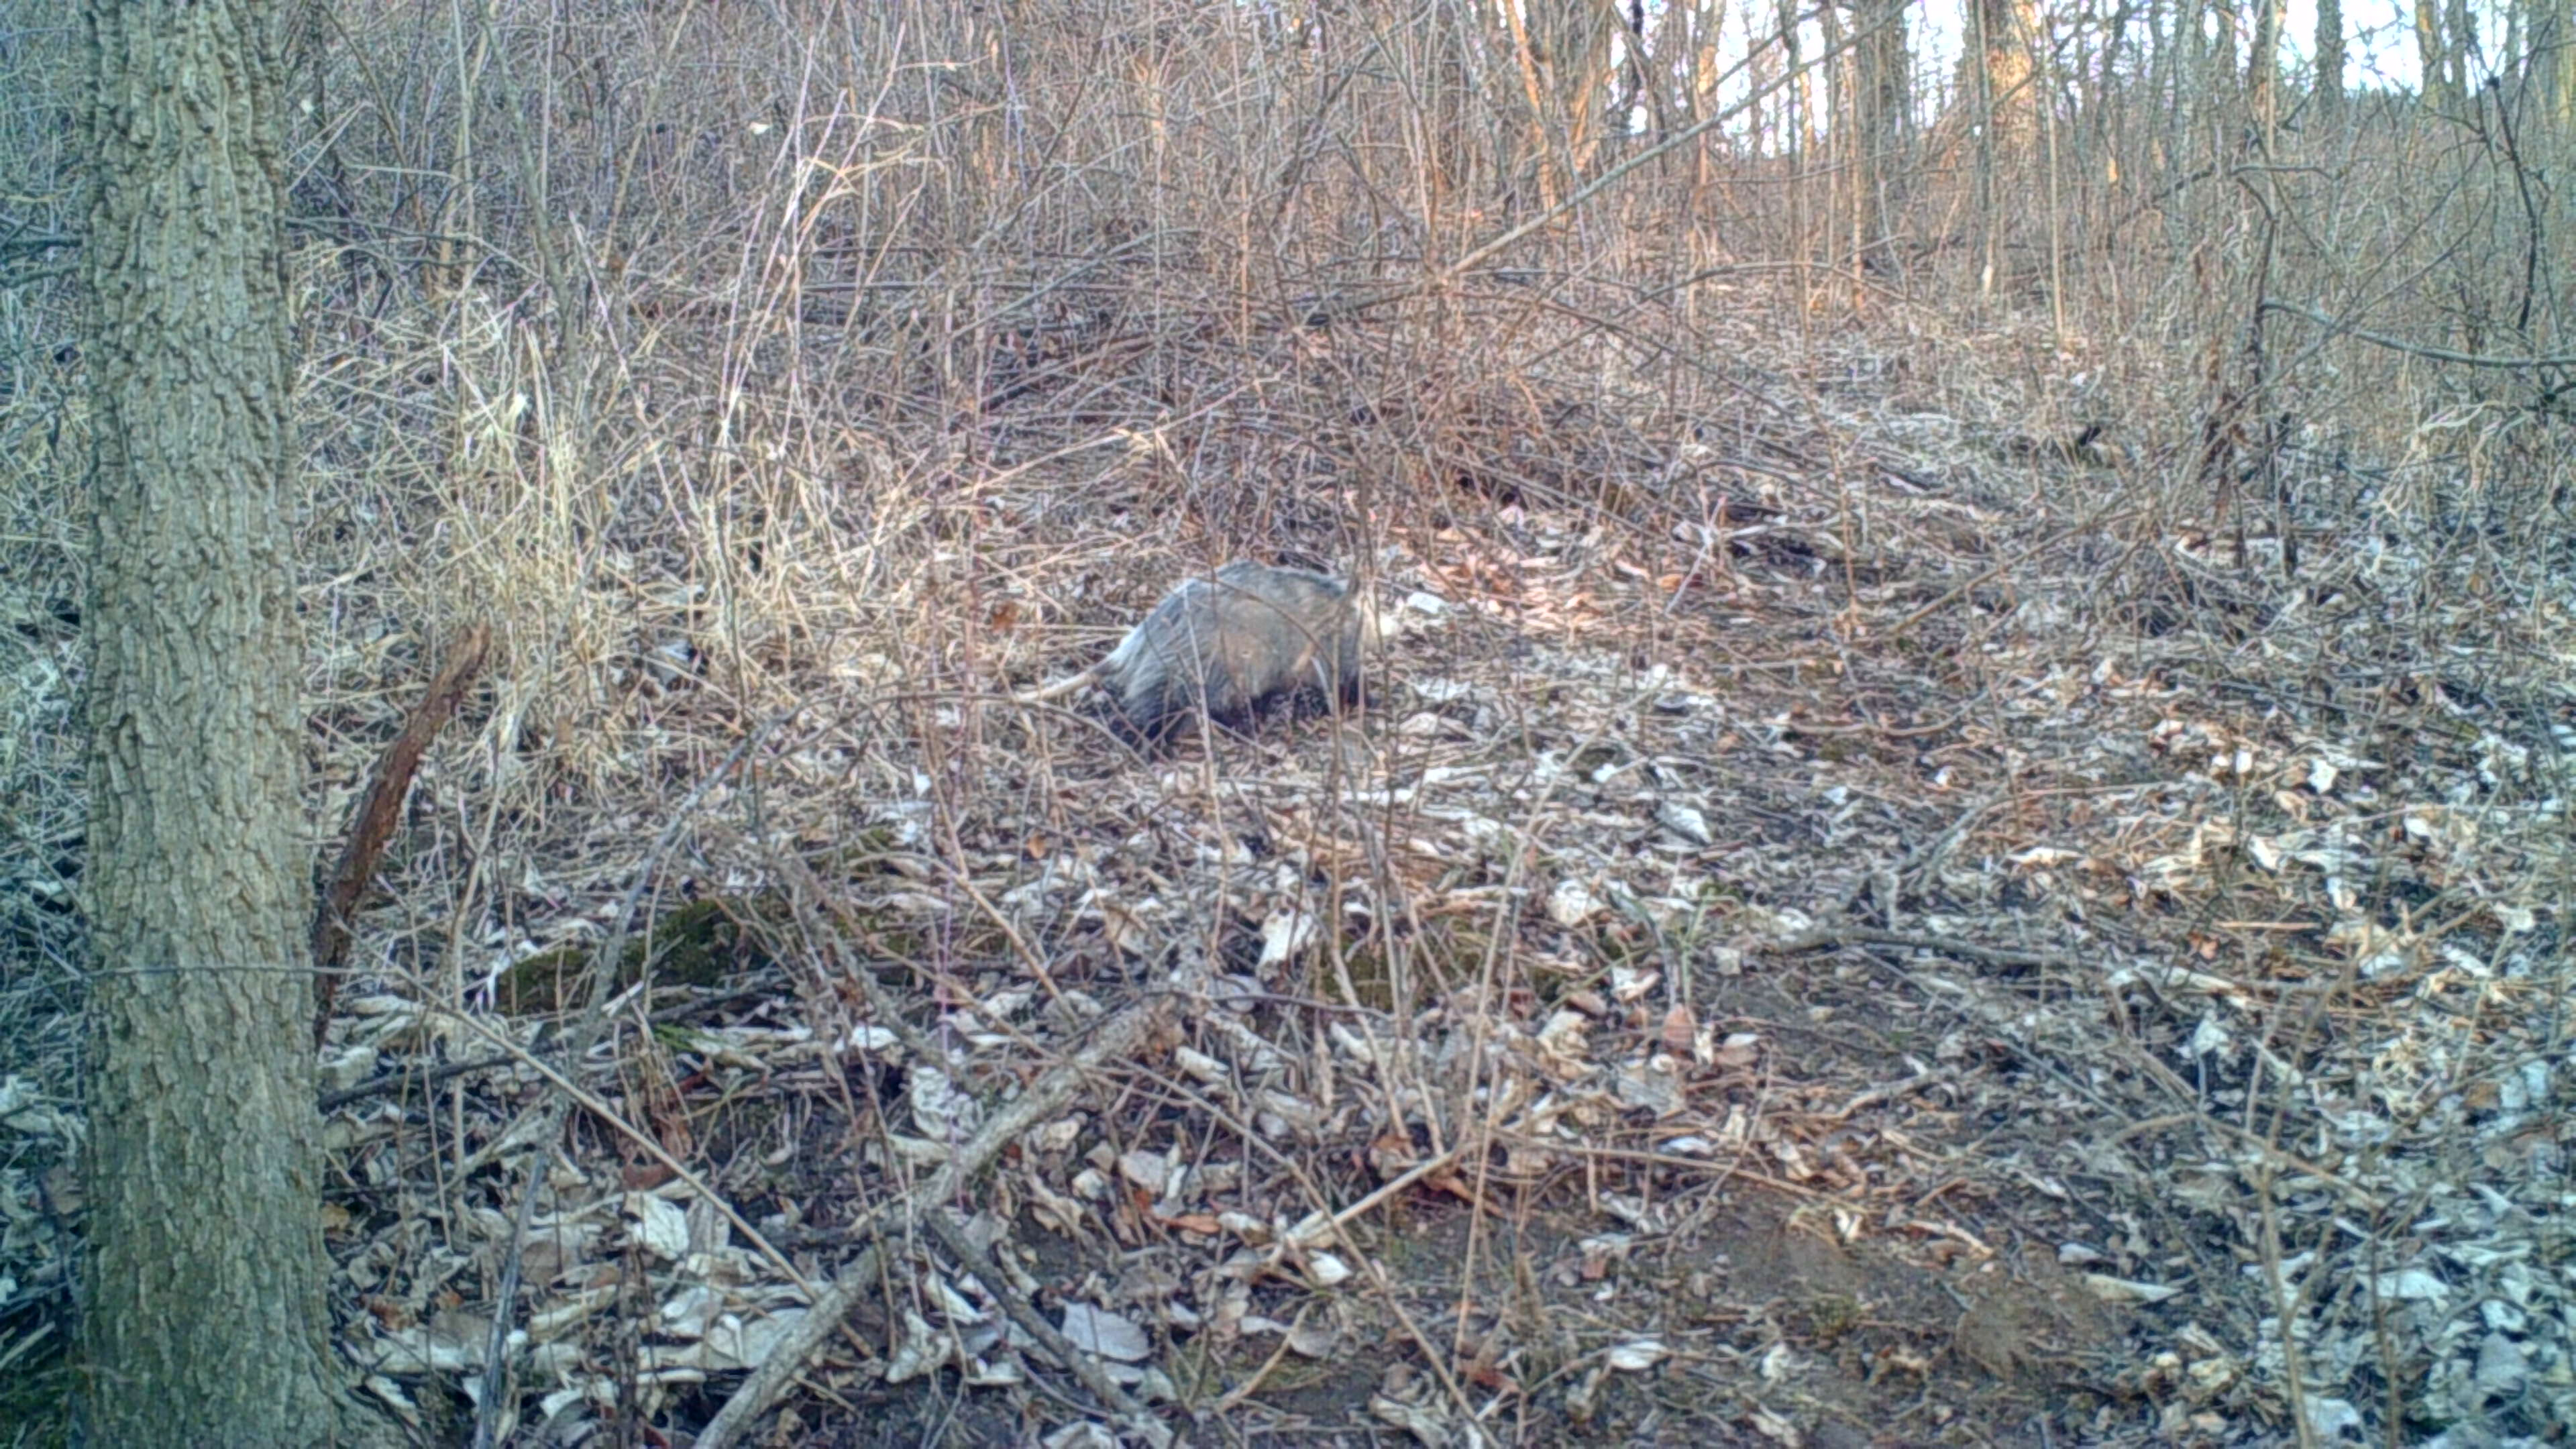Possum: (1000, 556, 1385, 738)
